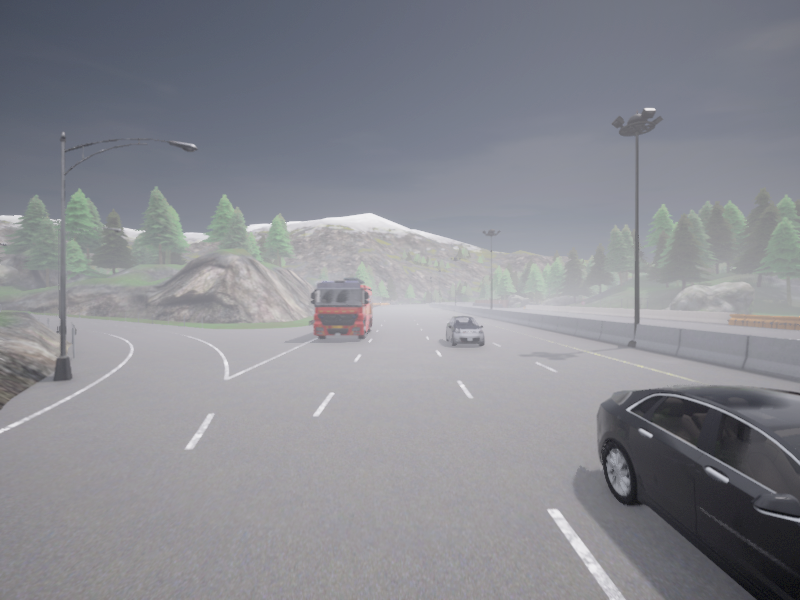vehicle: (596, 384, 799, 599), (310, 277, 372, 339), (446, 316, 484, 346)
